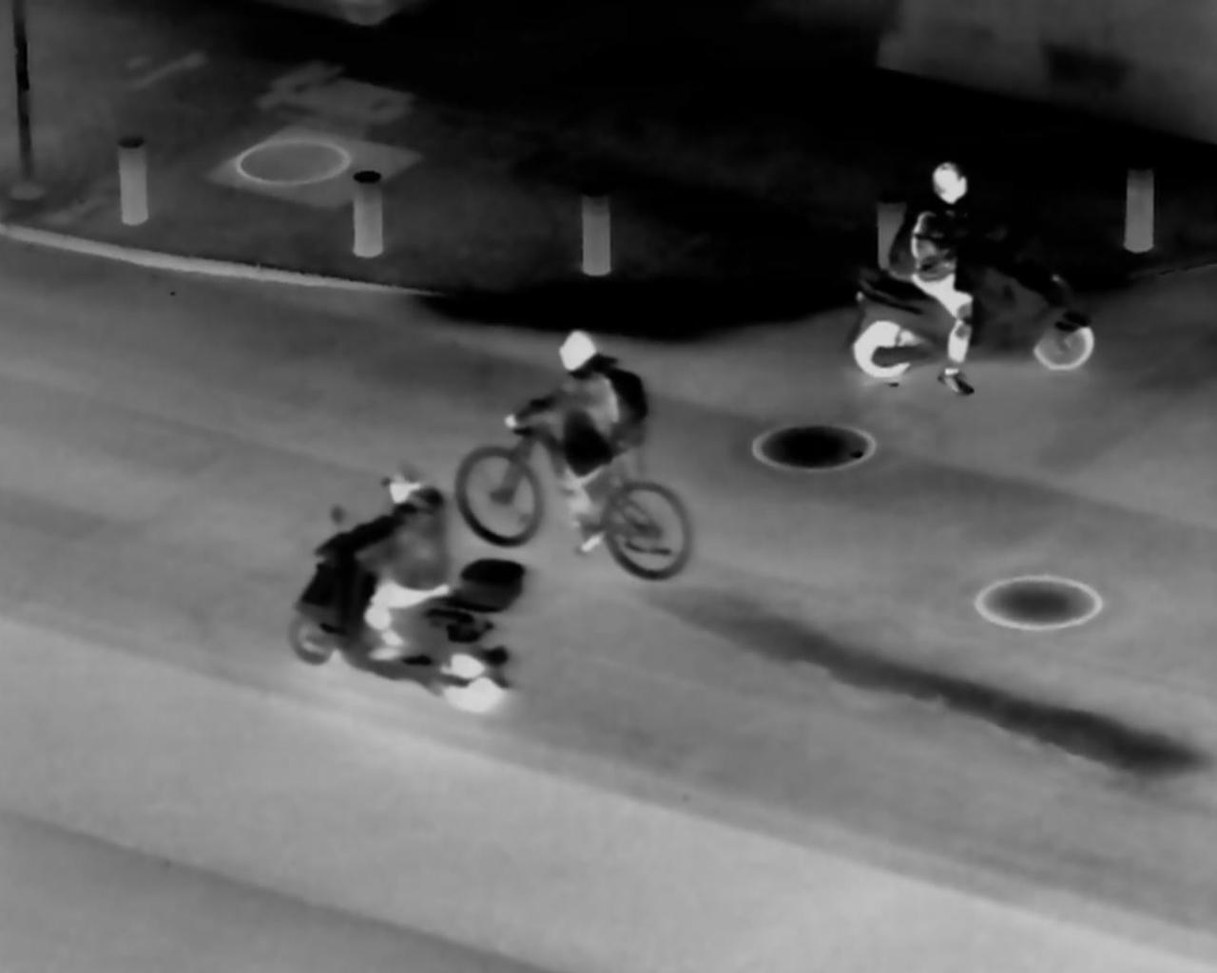person: (886, 146, 999, 397), (520, 319, 640, 545), (338, 463, 462, 654)
